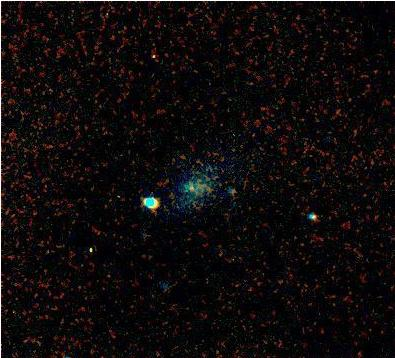star: (176, 174, 206, 204)
